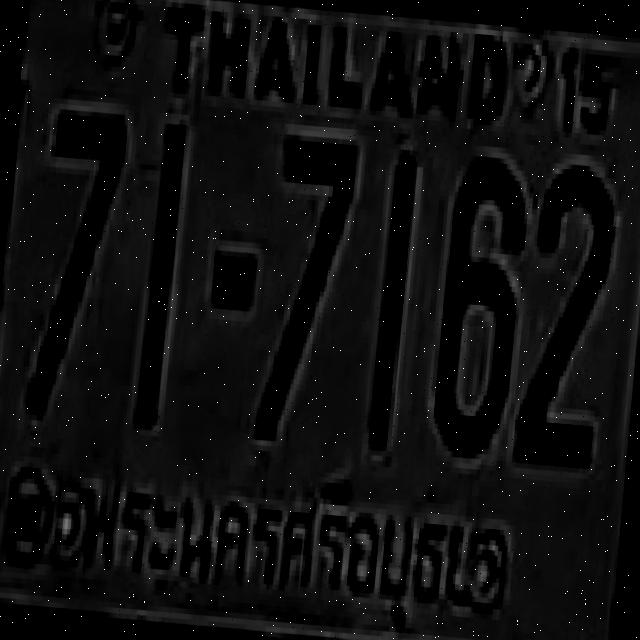1: (132, 120, 186, 428), (364, 146, 416, 448), (134, 117, 184, 426)
2: (513, 159, 616, 466)
6: (429, 154, 529, 456)
7: (23, 102, 127, 420), (255, 130, 358, 444)
Ayutthaya: (70, 444, 520, 629)
